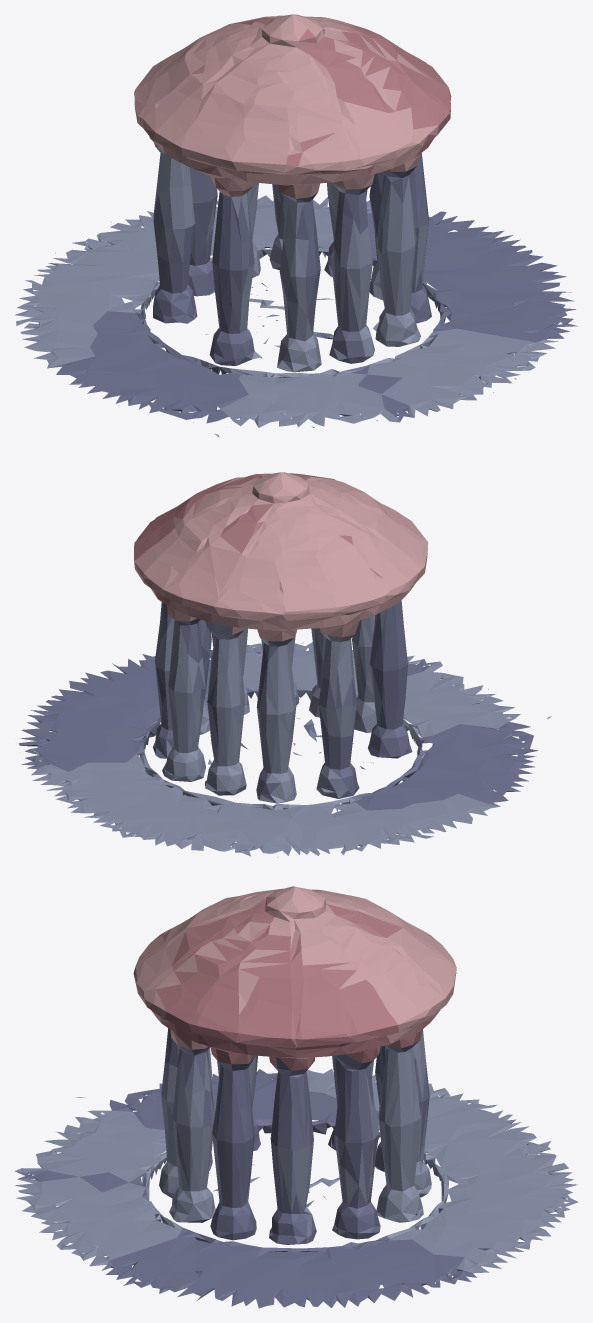
Rendered from gazebo.glb.
3 renders of one model, top to bottom at view 1: azimuth 30°, elevation 25°; view 2: azimuth 150°, elevation 25°; view 3: azimuth 270°, elevation 25°, orthographic. The views are drawn at different scales.
Visible parts, largest first — view 1: geometry_0; view 2: geometry_0; view 3: geometry_0.
Part boxes in pixels (<box>): geometry_0: <box>14,14,578,437</box>; geometry_0: <box>18,472,551,857</box>; geometry_0: <box>15,886,578,1308</box>.
Size of the model in its own units: 1.98 by 1.2 by 1.96.
